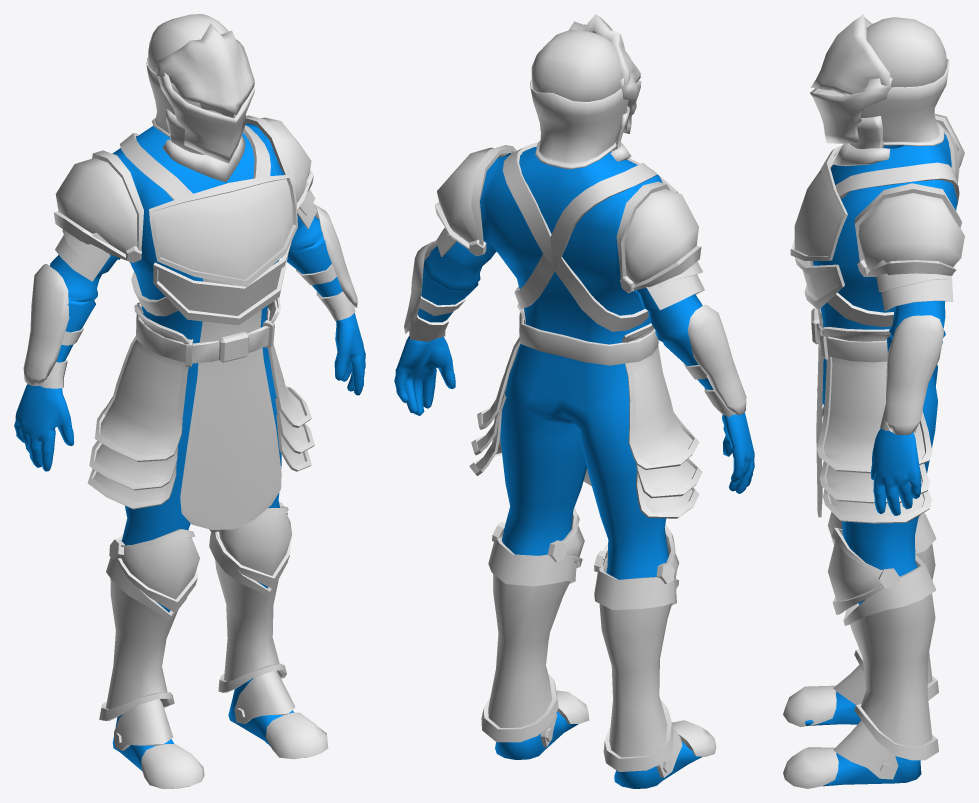
File: Knight-LowPoly.fbx
3 renders of one model, left to right at view 1: azimuth 30°, elevation 25°; view 2: azimuth 150°, elevation 25°; view 3: azimuth 270°, elevation 25°, orthographic. The views are drawn at different scales.
Parts seen in each view (by area): view 1: Knight; view 2: Knight; view 3: Knight.
Boxes of the visible parts, <box> form: Knight: <box>14,14,365,788</box>; Knight: <box>394,14,754,788</box>; Knight: <box>783,14,964,788</box>.
Size of the model in its own units: 44.18 by 89.13 by 20.06.
